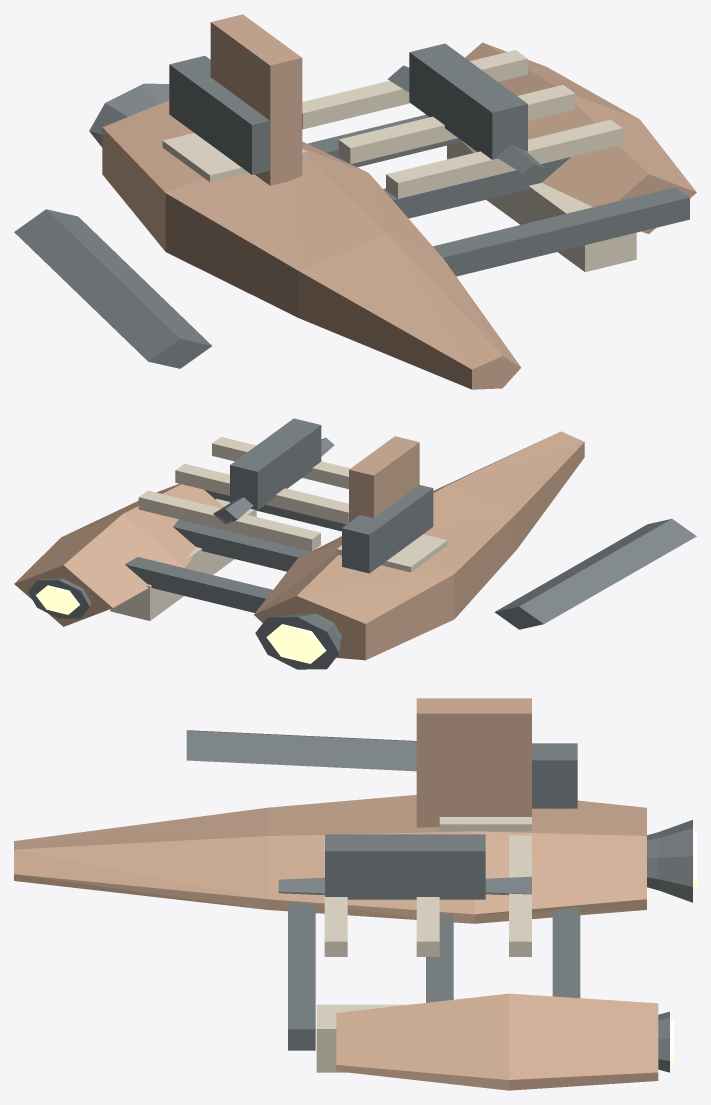
3 renders of one model, top to bottom at view 1: azimuth 30°, elevation 25°; view 2: azimuth 150°, elevation 25°; view 3: azimuth 270°, elevation 25°, orthographic. The views are drawn at different scales.
Size of the model in its own units: 11.01 by 3.85 by 10.22.
